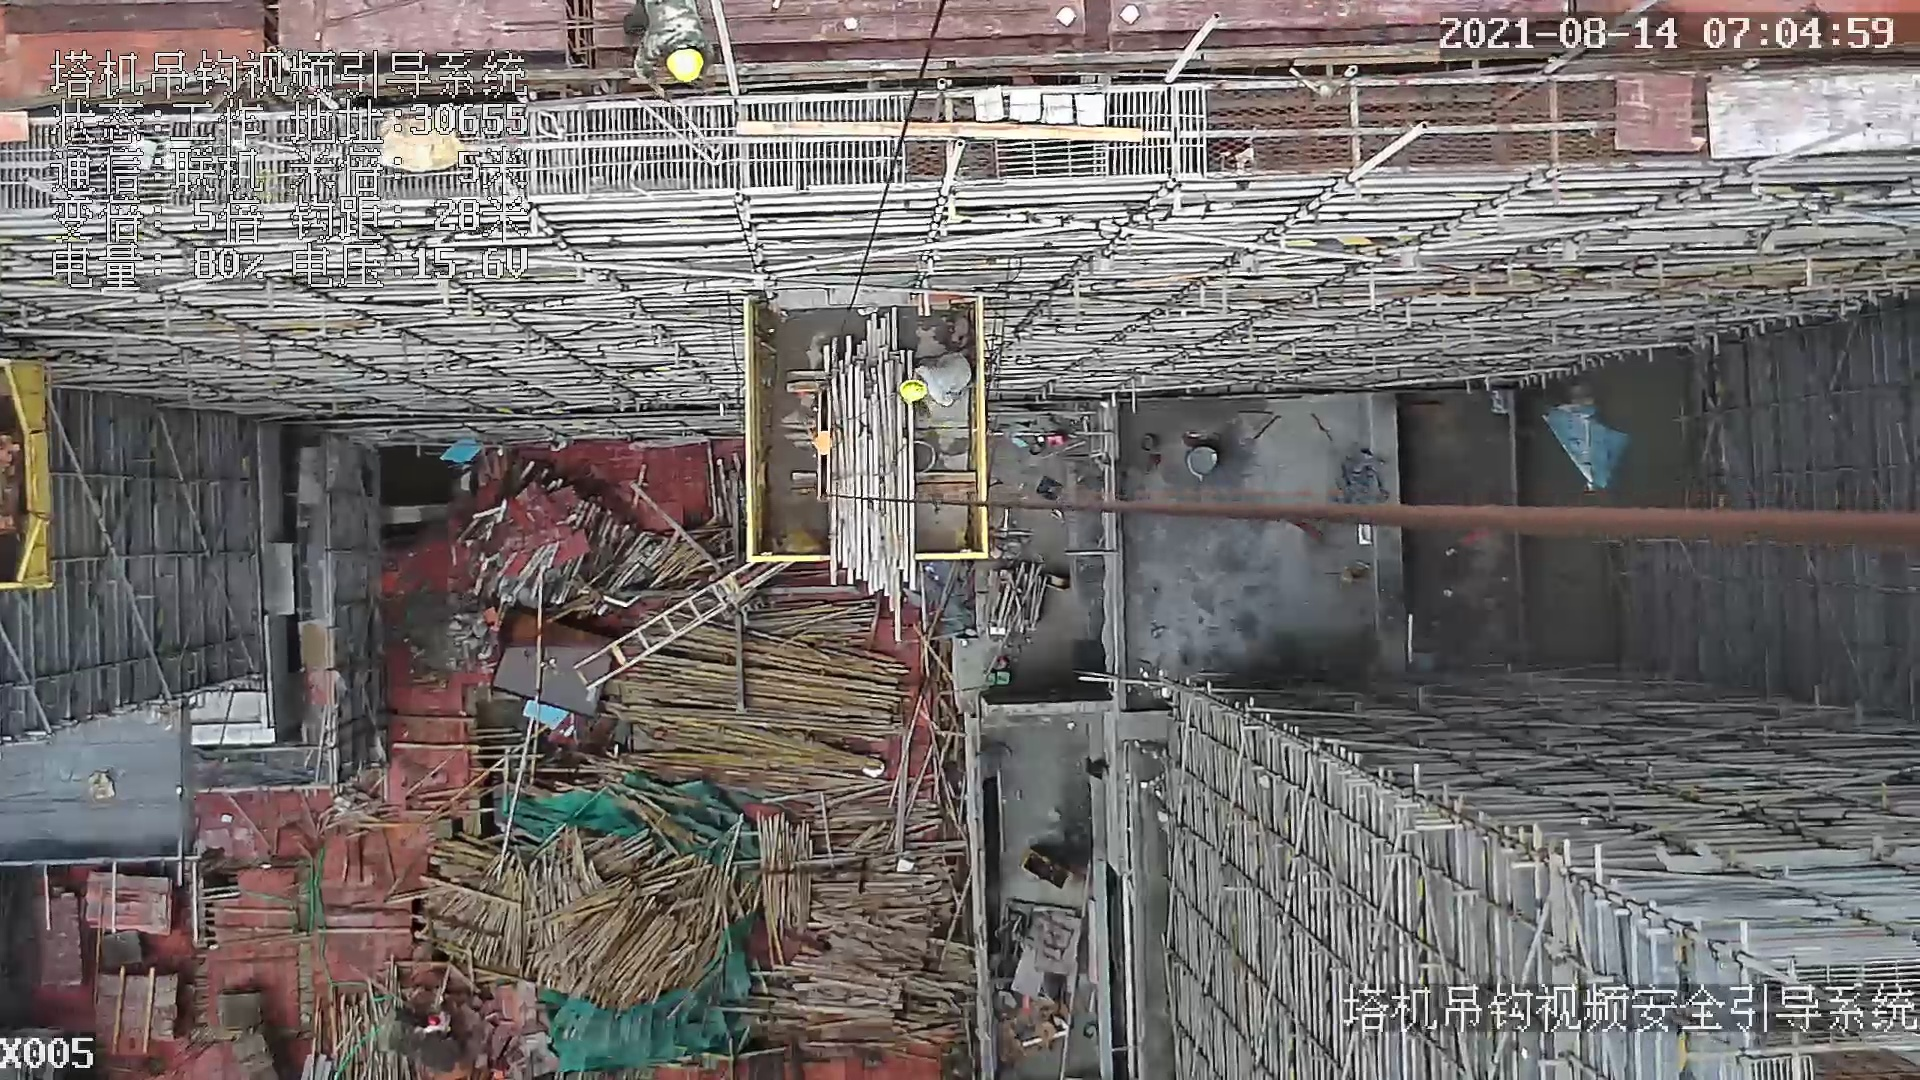helmet: (661, 48, 708, 84), (896, 377, 928, 404)
hook: (796, 382, 840, 495)
person: (626, 1, 723, 106), (891, 354, 981, 408)
